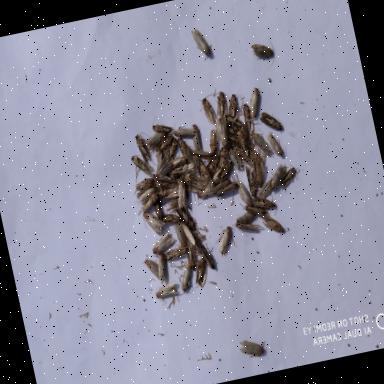pbw: (212, 224, 241, 257), (129, 150, 157, 184), (190, 25, 214, 63), (196, 92, 222, 127), (260, 209, 288, 240), (266, 160, 294, 191), (237, 335, 268, 361), (233, 169, 253, 209), (250, 36, 276, 66), (141, 207, 167, 237), (152, 280, 182, 306), (190, 255, 212, 290), (245, 86, 267, 121), (250, 128, 274, 160), (257, 107, 284, 135), (132, 130, 154, 164), (150, 229, 178, 255), (138, 254, 162, 284), (133, 192, 162, 216), (238, 196, 268, 219), (276, 162, 302, 188), (130, 176, 158, 200), (248, 192, 276, 216), (162, 244, 190, 268), (181, 169, 207, 194), (149, 110, 174, 136), (250, 152, 268, 188), (224, 91, 247, 119), (176, 261, 196, 293), (234, 216, 266, 236), (212, 90, 234, 118), (197, 158, 215, 192), (175, 204, 196, 233), (197, 240, 216, 272), (266, 128, 286, 158), (142, 130, 169, 152), (214, 115, 232, 148), (244, 162, 260, 198), (132, 186, 159, 207), (173, 179, 190, 212), (212, 144, 232, 172), (226, 144, 246, 172), (188, 122, 206, 152), (154, 252, 170, 284), (183, 238, 198, 271), (254, 178, 276, 200), (224, 110, 246, 132), (162, 136, 182, 160), (180, 219, 196, 248), (181, 140, 197, 169), (213, 180, 240, 197), (206, 126, 222, 154), (156, 132, 176, 154), (216, 160, 236, 182), (240, 102, 254, 133), (154, 168, 178, 186), (172, 122, 196, 140), (236, 128, 250, 158), (246, 142, 264, 164), (234, 210, 258, 226), (190, 146, 213, 162), (174, 222, 188, 248), (155, 157, 174, 176), (166, 155, 188, 170), (160, 210, 182, 224), (240, 123, 252, 147), (195, 186, 215, 200), (152, 198, 164, 221)
